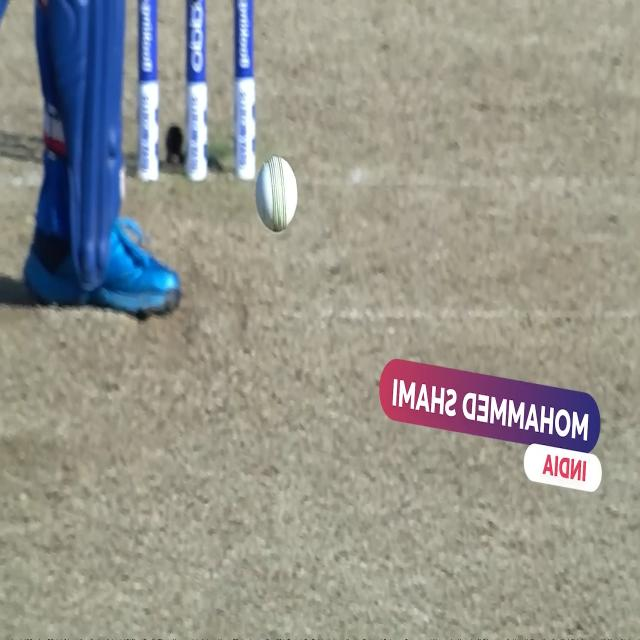ball: (243, 153, 308, 241)
